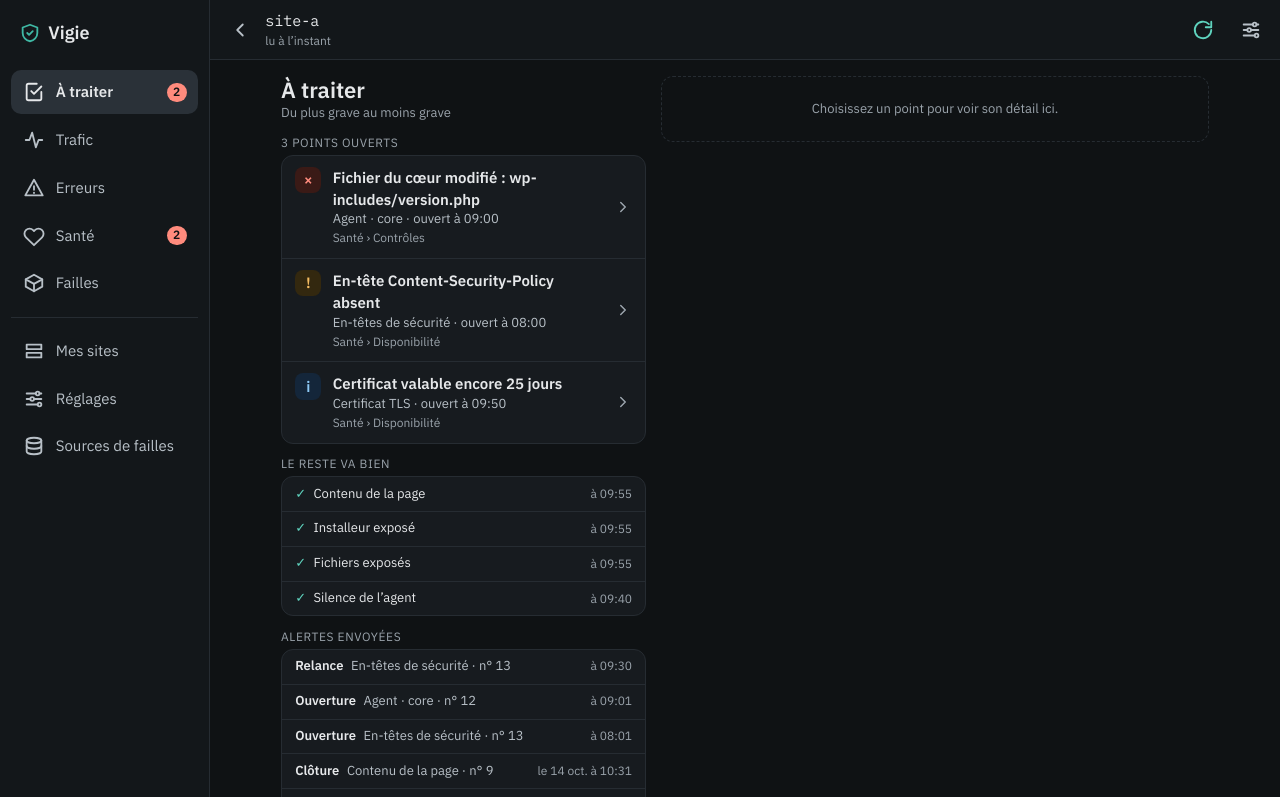
Test: connexion au veilleur › un appareil révoqué revient à Appairage au premier rechargement
Click the button named "Relire maintenant": (1203, 30) [1181,8,1225,52]
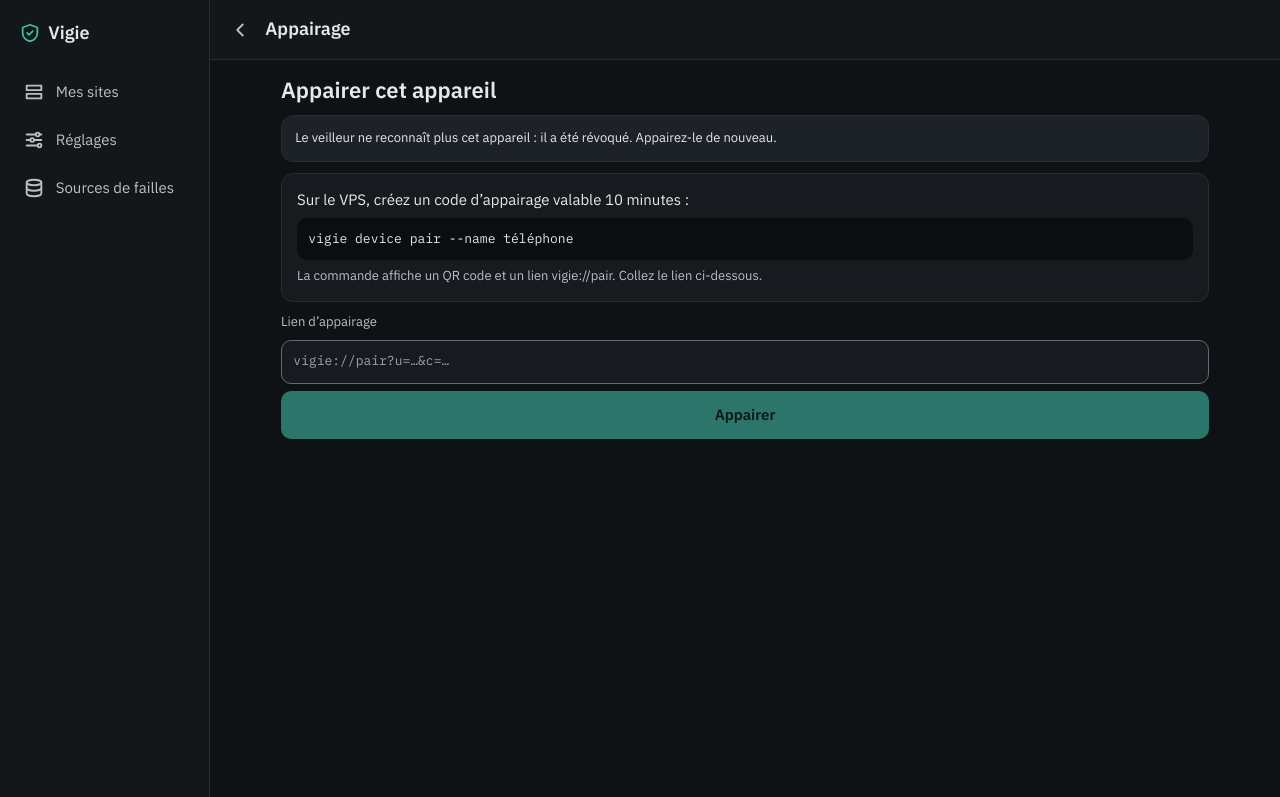
Result: the message shows "révoqué" at [295,129,777,146]
